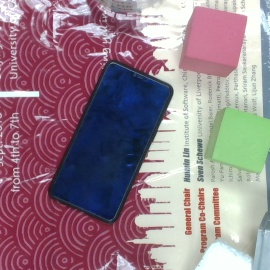phone: (49, 59, 174, 227)
